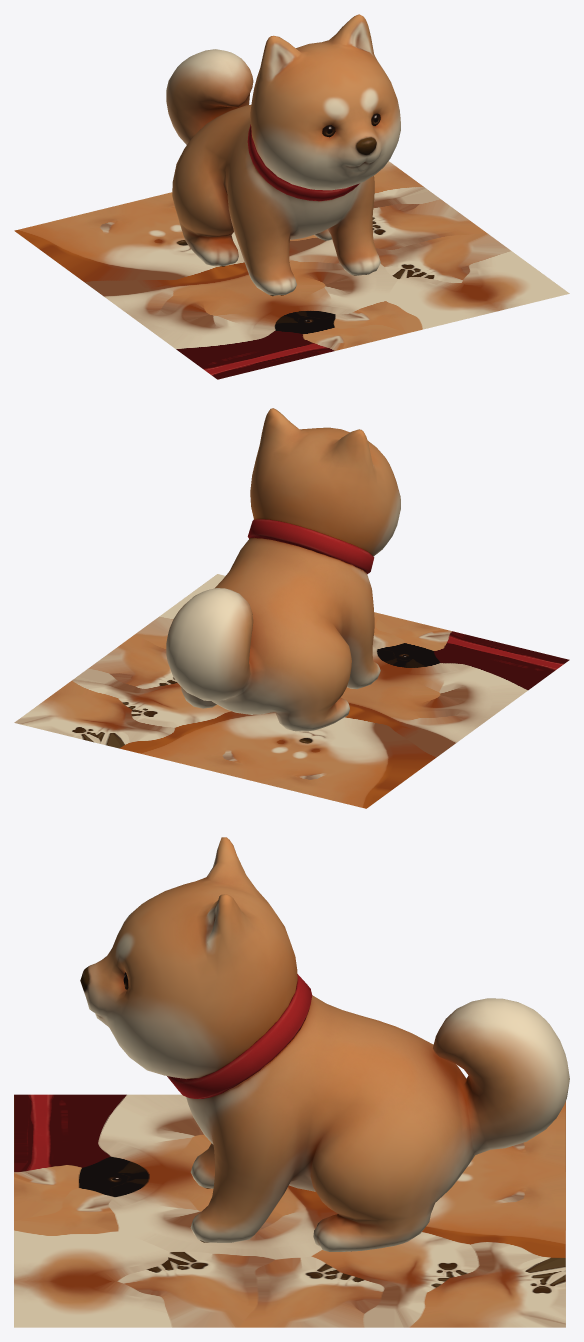
File: Shiba.obj
The picture shows the model from 3 angles, top to bottom: view 1: azimuth 30°, elevation 25°; view 2: azimuth 150°, elevation 25°; view 3: azimuth 270°, elevation 25°; orthographic projection. The views are drawn at different scales.
Parts seen in each view (by area): view 1: off, Box002_default, Group18985_default; view 2: off, Box002_default, Group18985_default; view 3: Box002_default, off, Group18985_default.
Boxes of the visible parts, bbox=[...] form: off: bbox=[14, 161, 569, 379]; Box002_default: bbox=[166, 14, 400, 296]; Group18985_default: bbox=[247, 124, 359, 201]; off: bbox=[14, 574, 569, 808]; Box002_default: bbox=[166, 408, 400, 731]; Group18985_default: bbox=[247, 519, 374, 574]; Box002_default: bbox=[80, 837, 569, 1251]; off: bbox=[14, 1094, 565, 1327]; Group18985_default: bbox=[167, 974, 312, 1098].
Size of the model in its own units: 2 by 1.38 by 2.01.
1 material, 1 textured.
